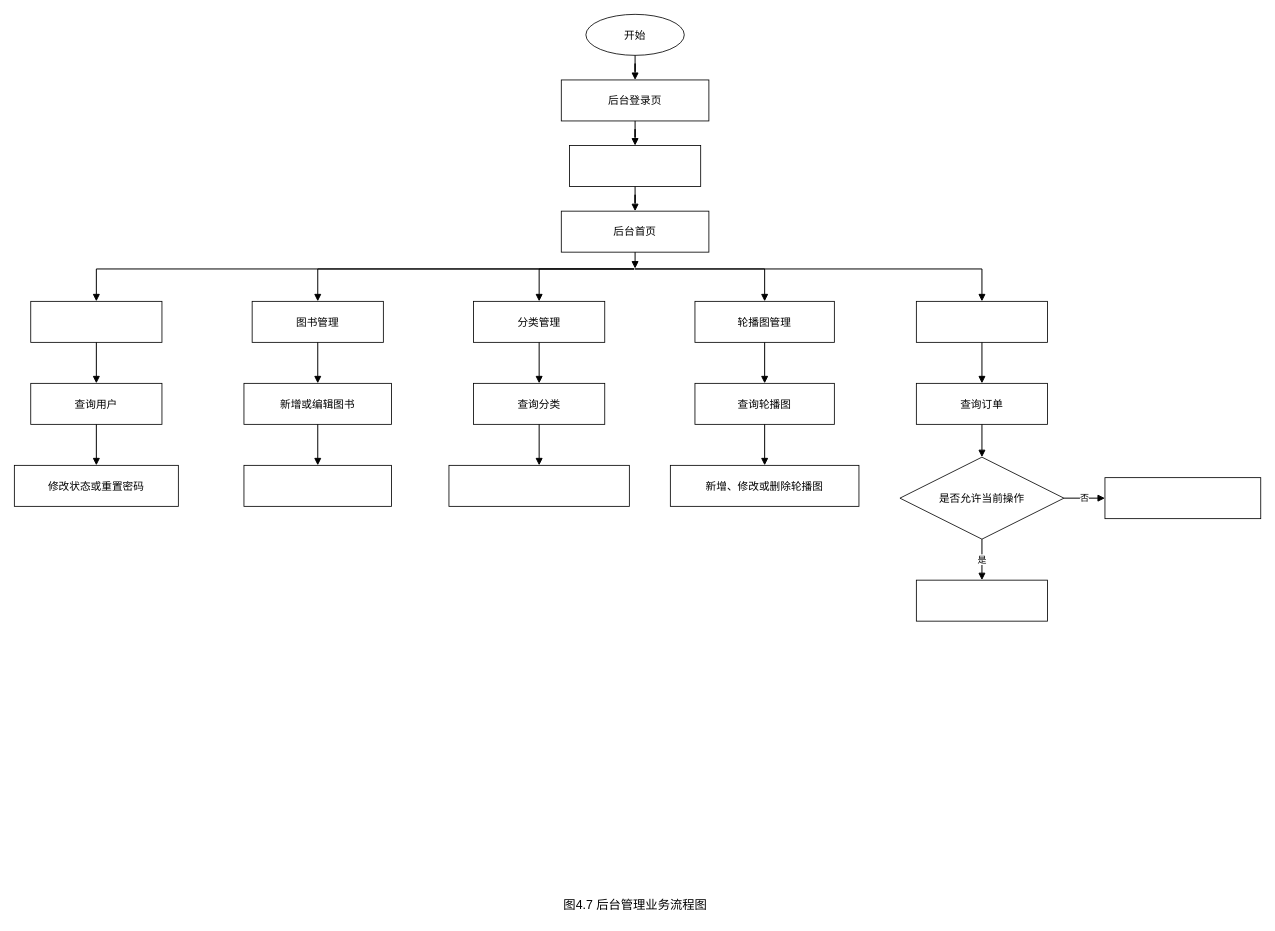
Image size: 1275x931. Some labels were removed from this diagram. Here are the shapes that lost their labels. From the top down, the box of each, then its label:
(569, 145, 701, 187): 管理员登录
(30, 301, 162, 342): 用户管理
(916, 301, 1048, 342): 订单管理
(243, 465, 392, 506): 图书上下架处理
(448, 465, 629, 506): 新增、修改或删除分类
(1104, 477, 1261, 519): 提示状态不允许操作
(916, 579, 1048, 621): 发货或取消订单
